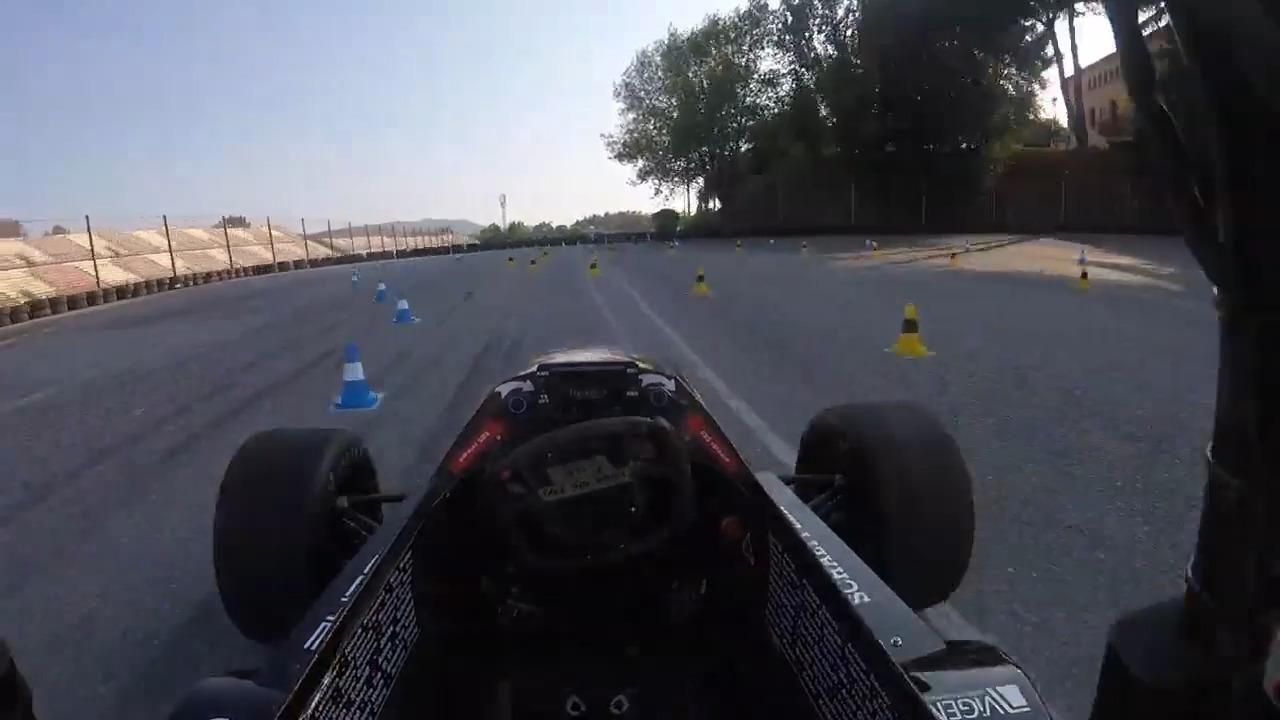blue_cone: (327, 344, 378, 408), (395, 292, 416, 322), (375, 281, 389, 303), (1078, 247, 1089, 266), (350, 272, 361, 290)
yellow_cone: (889, 302, 931, 358), (688, 269, 712, 298), (1072, 266, 1091, 295), (586, 257, 601, 279), (871, 240, 885, 262), (946, 251, 958, 270), (800, 240, 810, 261), (528, 256, 539, 274), (732, 240, 743, 256), (507, 256, 516, 272)
